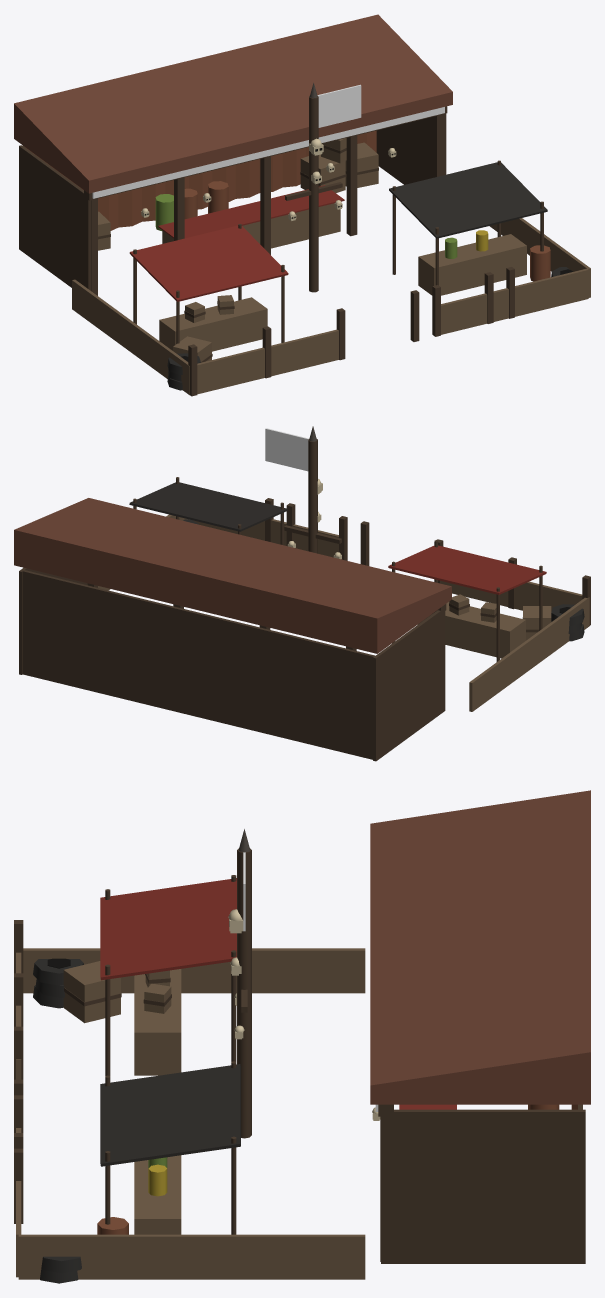
The picture shows the model from 3 angles, top to bottom: view 1: azimuth 30°, elevation 25°; view 2: azimuth 150°, elevation 25°; view 3: azimuth 270°, elevation 25°; orthographic projection. The views are drawn at different scales.
Visible parts, largest first — view 1: raider_building_market; view 2: raider_building_market; view 3: raider_building_market.
Part boxes in pixels (x1=…): raider_building_market: x1=14, y1=14, x2=590, y2=396; raider_building_market: x1=14, y1=426, x2=590, y2=761; raider_building_market: x1=14, y1=790, x2=590, y2=1283.
Bounding box in the file's own units: 13.45 × 6.45 × 10.99.
